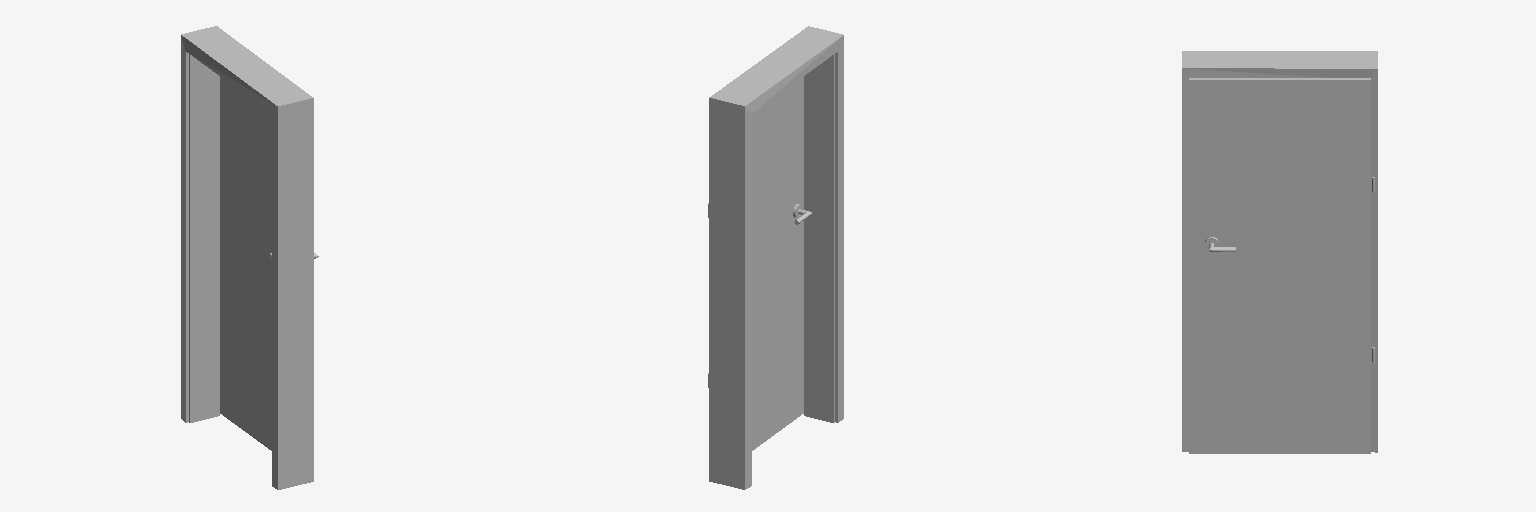
Rendered from door8.obj.
3 views of the same model, side by side, from view 1: azimuth 30°, elevation 25°; view 2: azimuth 150°, elevation 25°; view 3: azimuth 270°, elevation 25° (orthographic).
Visible parts, largest first — view 1: Cylinder.005, Cylinder.001; view 2: Cylinder.005, Cylinder.001; view 3: Cylinder.001, Cylinder.005.
Boxes of the visible parts, x1=… form: Cylinder.005: x1=181, y1=26, x2=313, y2=489; Cylinder.001: x1=220, y1=77, x2=271, y2=450; Cylinder.005: x1=708, y1=26, x2=843, y2=489; Cylinder.001: x1=708, y1=77, x2=803, y2=450; Cylinder.001: x1=1189, y1=78, x2=1374, y2=453; Cylinder.005: x1=1182, y1=51, x2=1377, y2=452.
Size of the model in its own units: 0.3039 by 2.05 by 0.95.